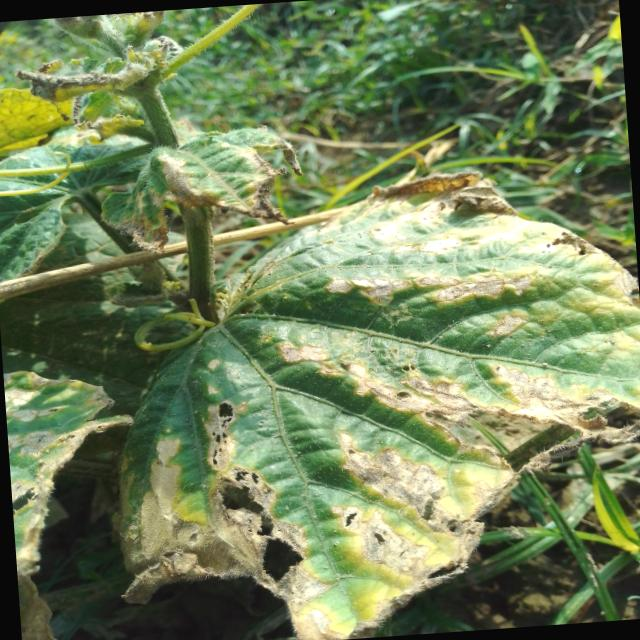cucumber_gummy: (100, 148, 640, 640), (1, 334, 150, 640), (82, 114, 318, 268), (18, 36, 188, 144)
